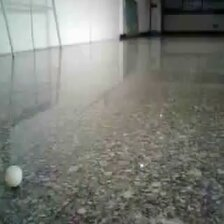tennis: (139, 112, 164, 146), (42, 79, 62, 106), (48, 55, 65, 73)
